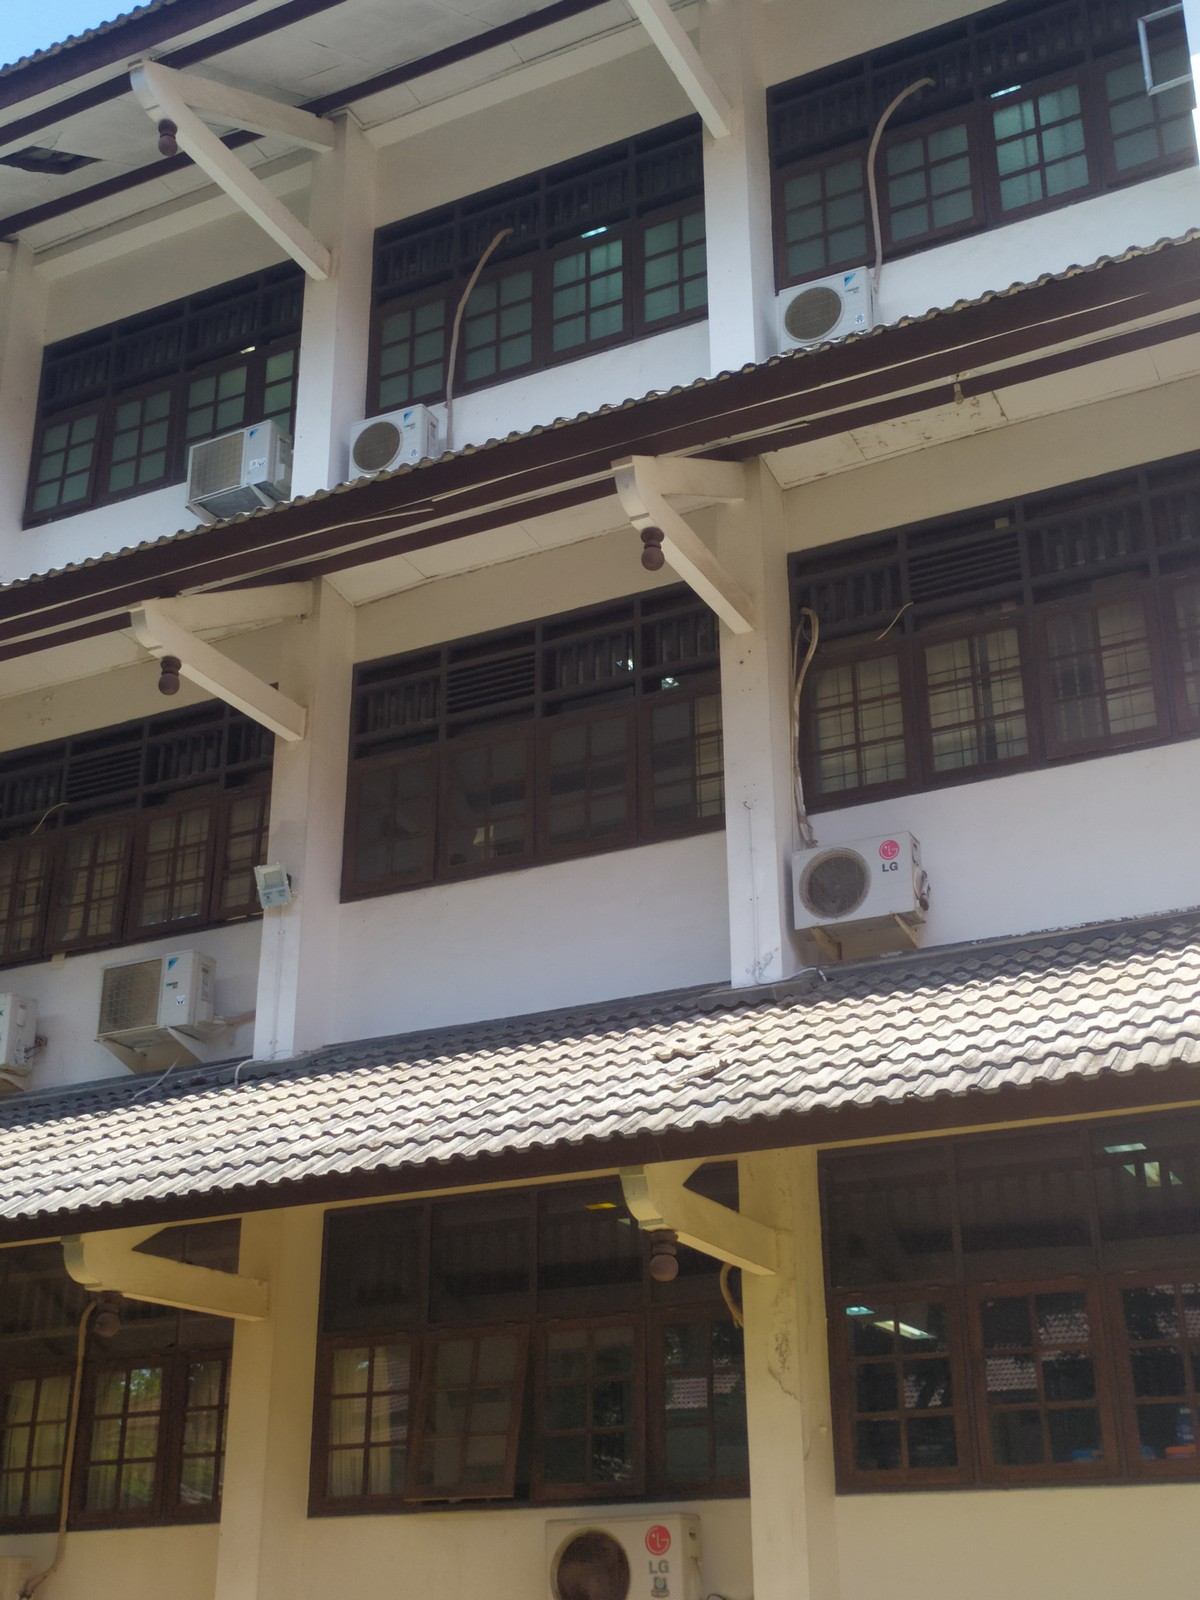concrete beam: (195, 132, 339, 283), (189, 648, 306, 748), (132, 1259, 261, 1332), (686, 1199, 789, 1288), (673, 527, 754, 634)
concrete column: (710, 622, 821, 994), (734, 1274, 846, 1596), (251, 743, 350, 1070), (211, 1322, 325, 1597), (692, 125, 779, 374), (289, 277, 376, 503)
